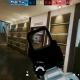Character: (38, 40, 42, 43)
Friend_label: (43, 37, 46, 39), (39, 38, 41, 40)
Head: (40, 40, 40, 41)
